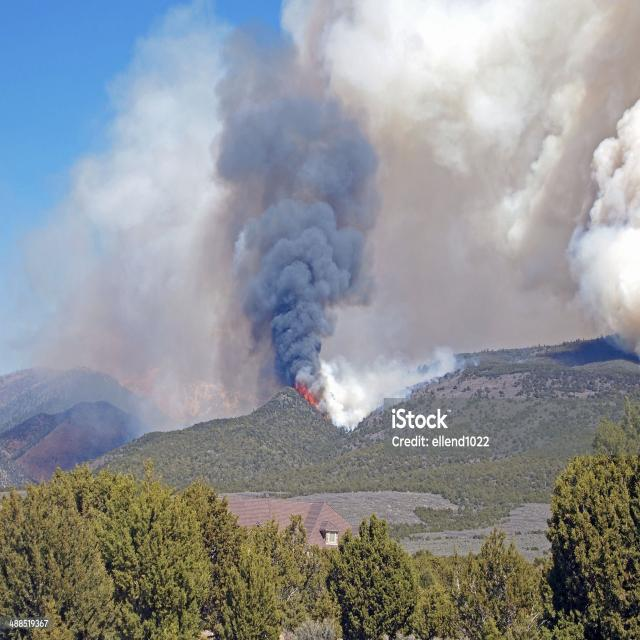Smoke: (202, 24, 640, 362), (290, 371, 322, 417)
